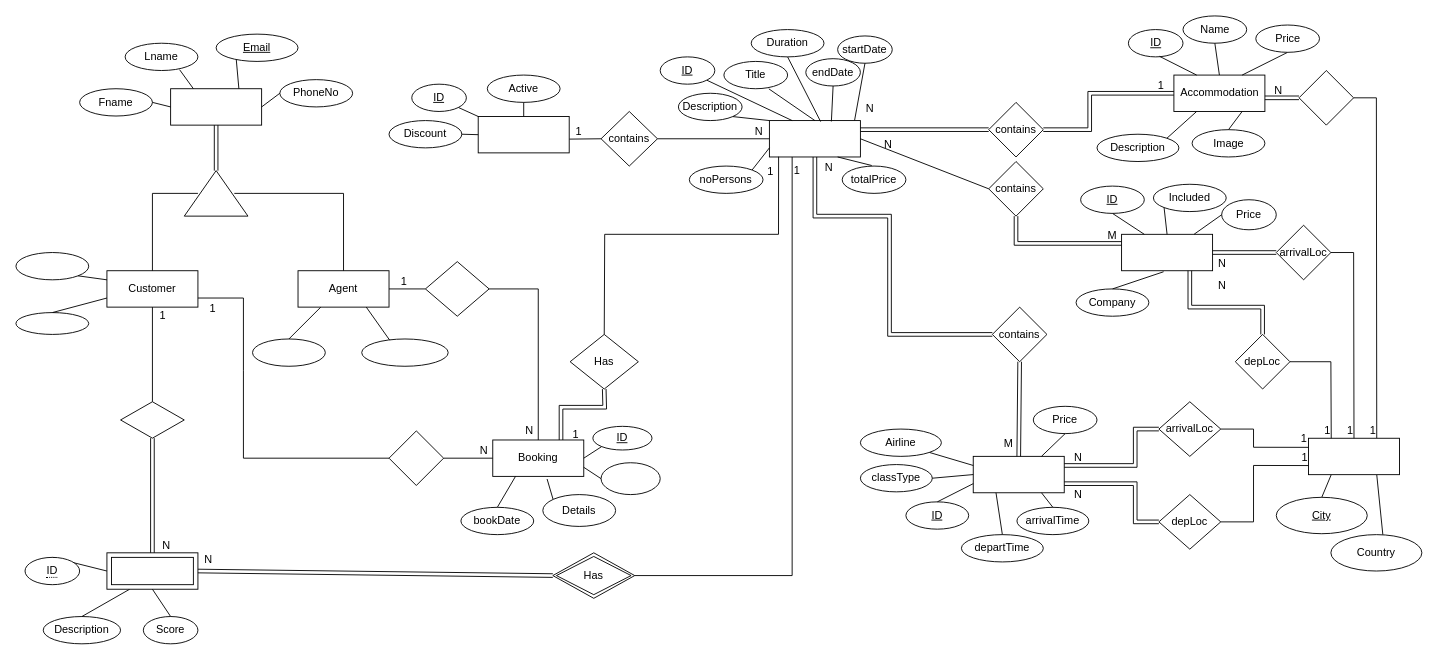
The diagram is 1438 pixels wide and 660 high, and some of its shapes have lost their labels. Each missing label, with the centre of its shape:
AgID: the point at 288,352
Books: the point at 416,457
City & Country: the point at 1353,456
CustID: the point at 52,266
Flight: the point at 1018,474
IS-A: the point at 215,193
Location: the point at 1326,97
NIF: the point at 52,323
Package: the point at 814,138
Paid: the point at 630,478
Password: the point at 404,352
Person: the point at 216,106
Promo: the point at 523,134
Register: the point at 457,288
Review: the point at 152,570
Transfer: the point at 1167,252
Writes: the point at 152,419
